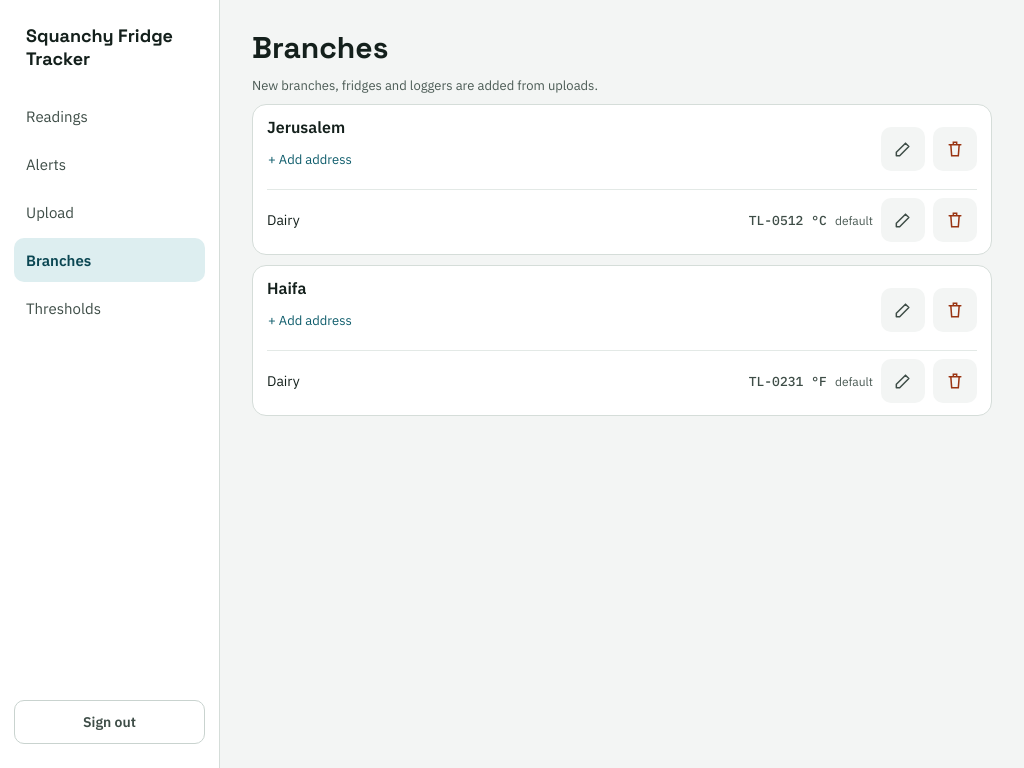
Test: BranchesPage delete branch › does not delete when the user cancels
The width and height of the screenshot is (1024, 768).
Click the button named "Delete Haifa" at (955, 310), box [933,288,977,332]
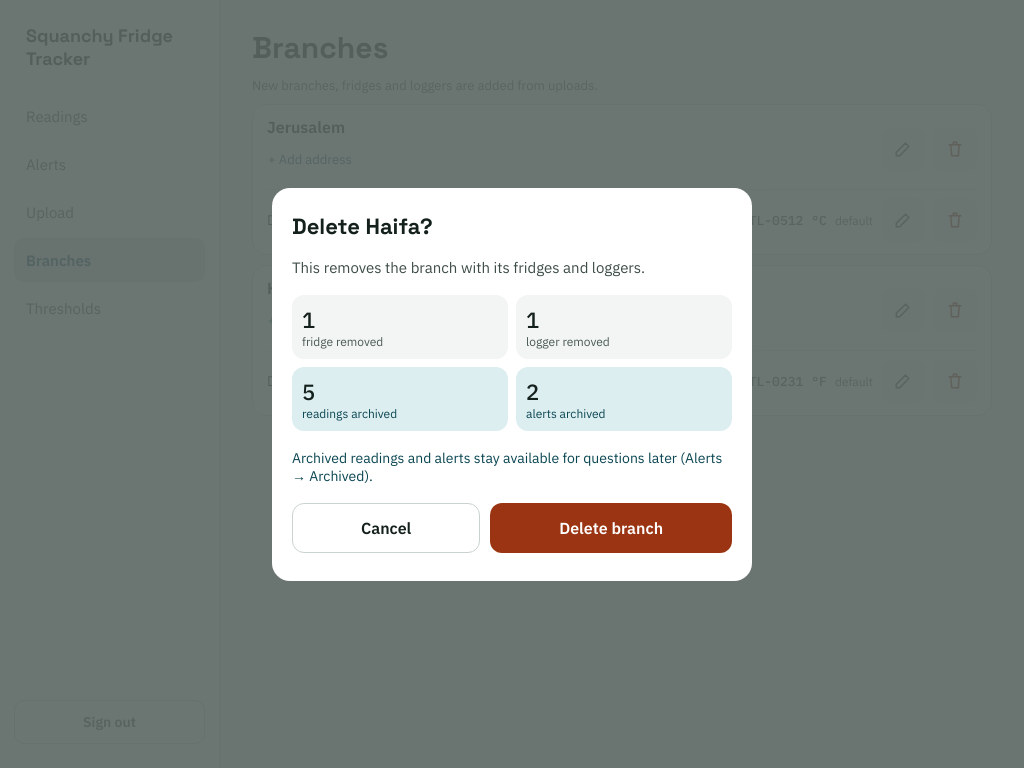
Click the button "Cancel" at (386, 528), box [292,502,480,552]
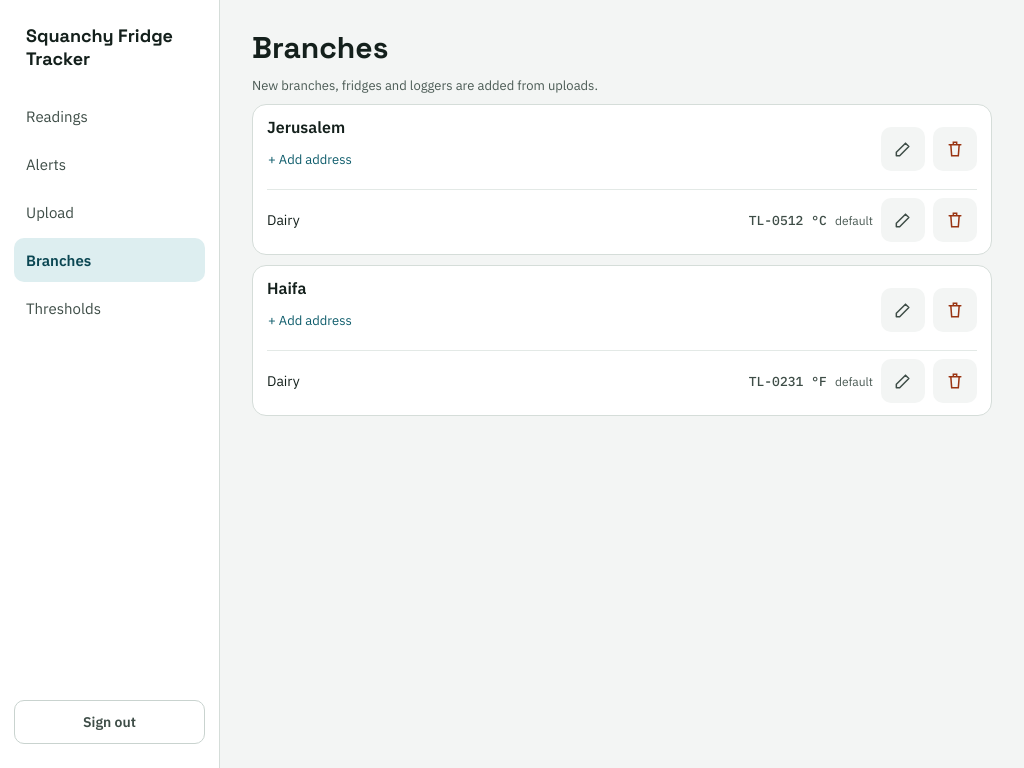
Expected: the dialog is gone
